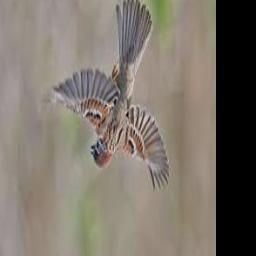Sparrow: (44, 0, 170, 193)
